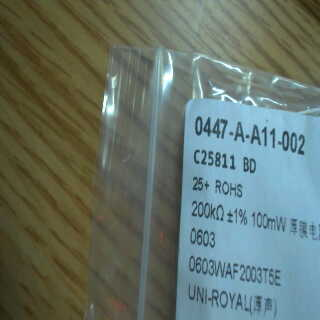200kR: (189, 199, 227, 220)
